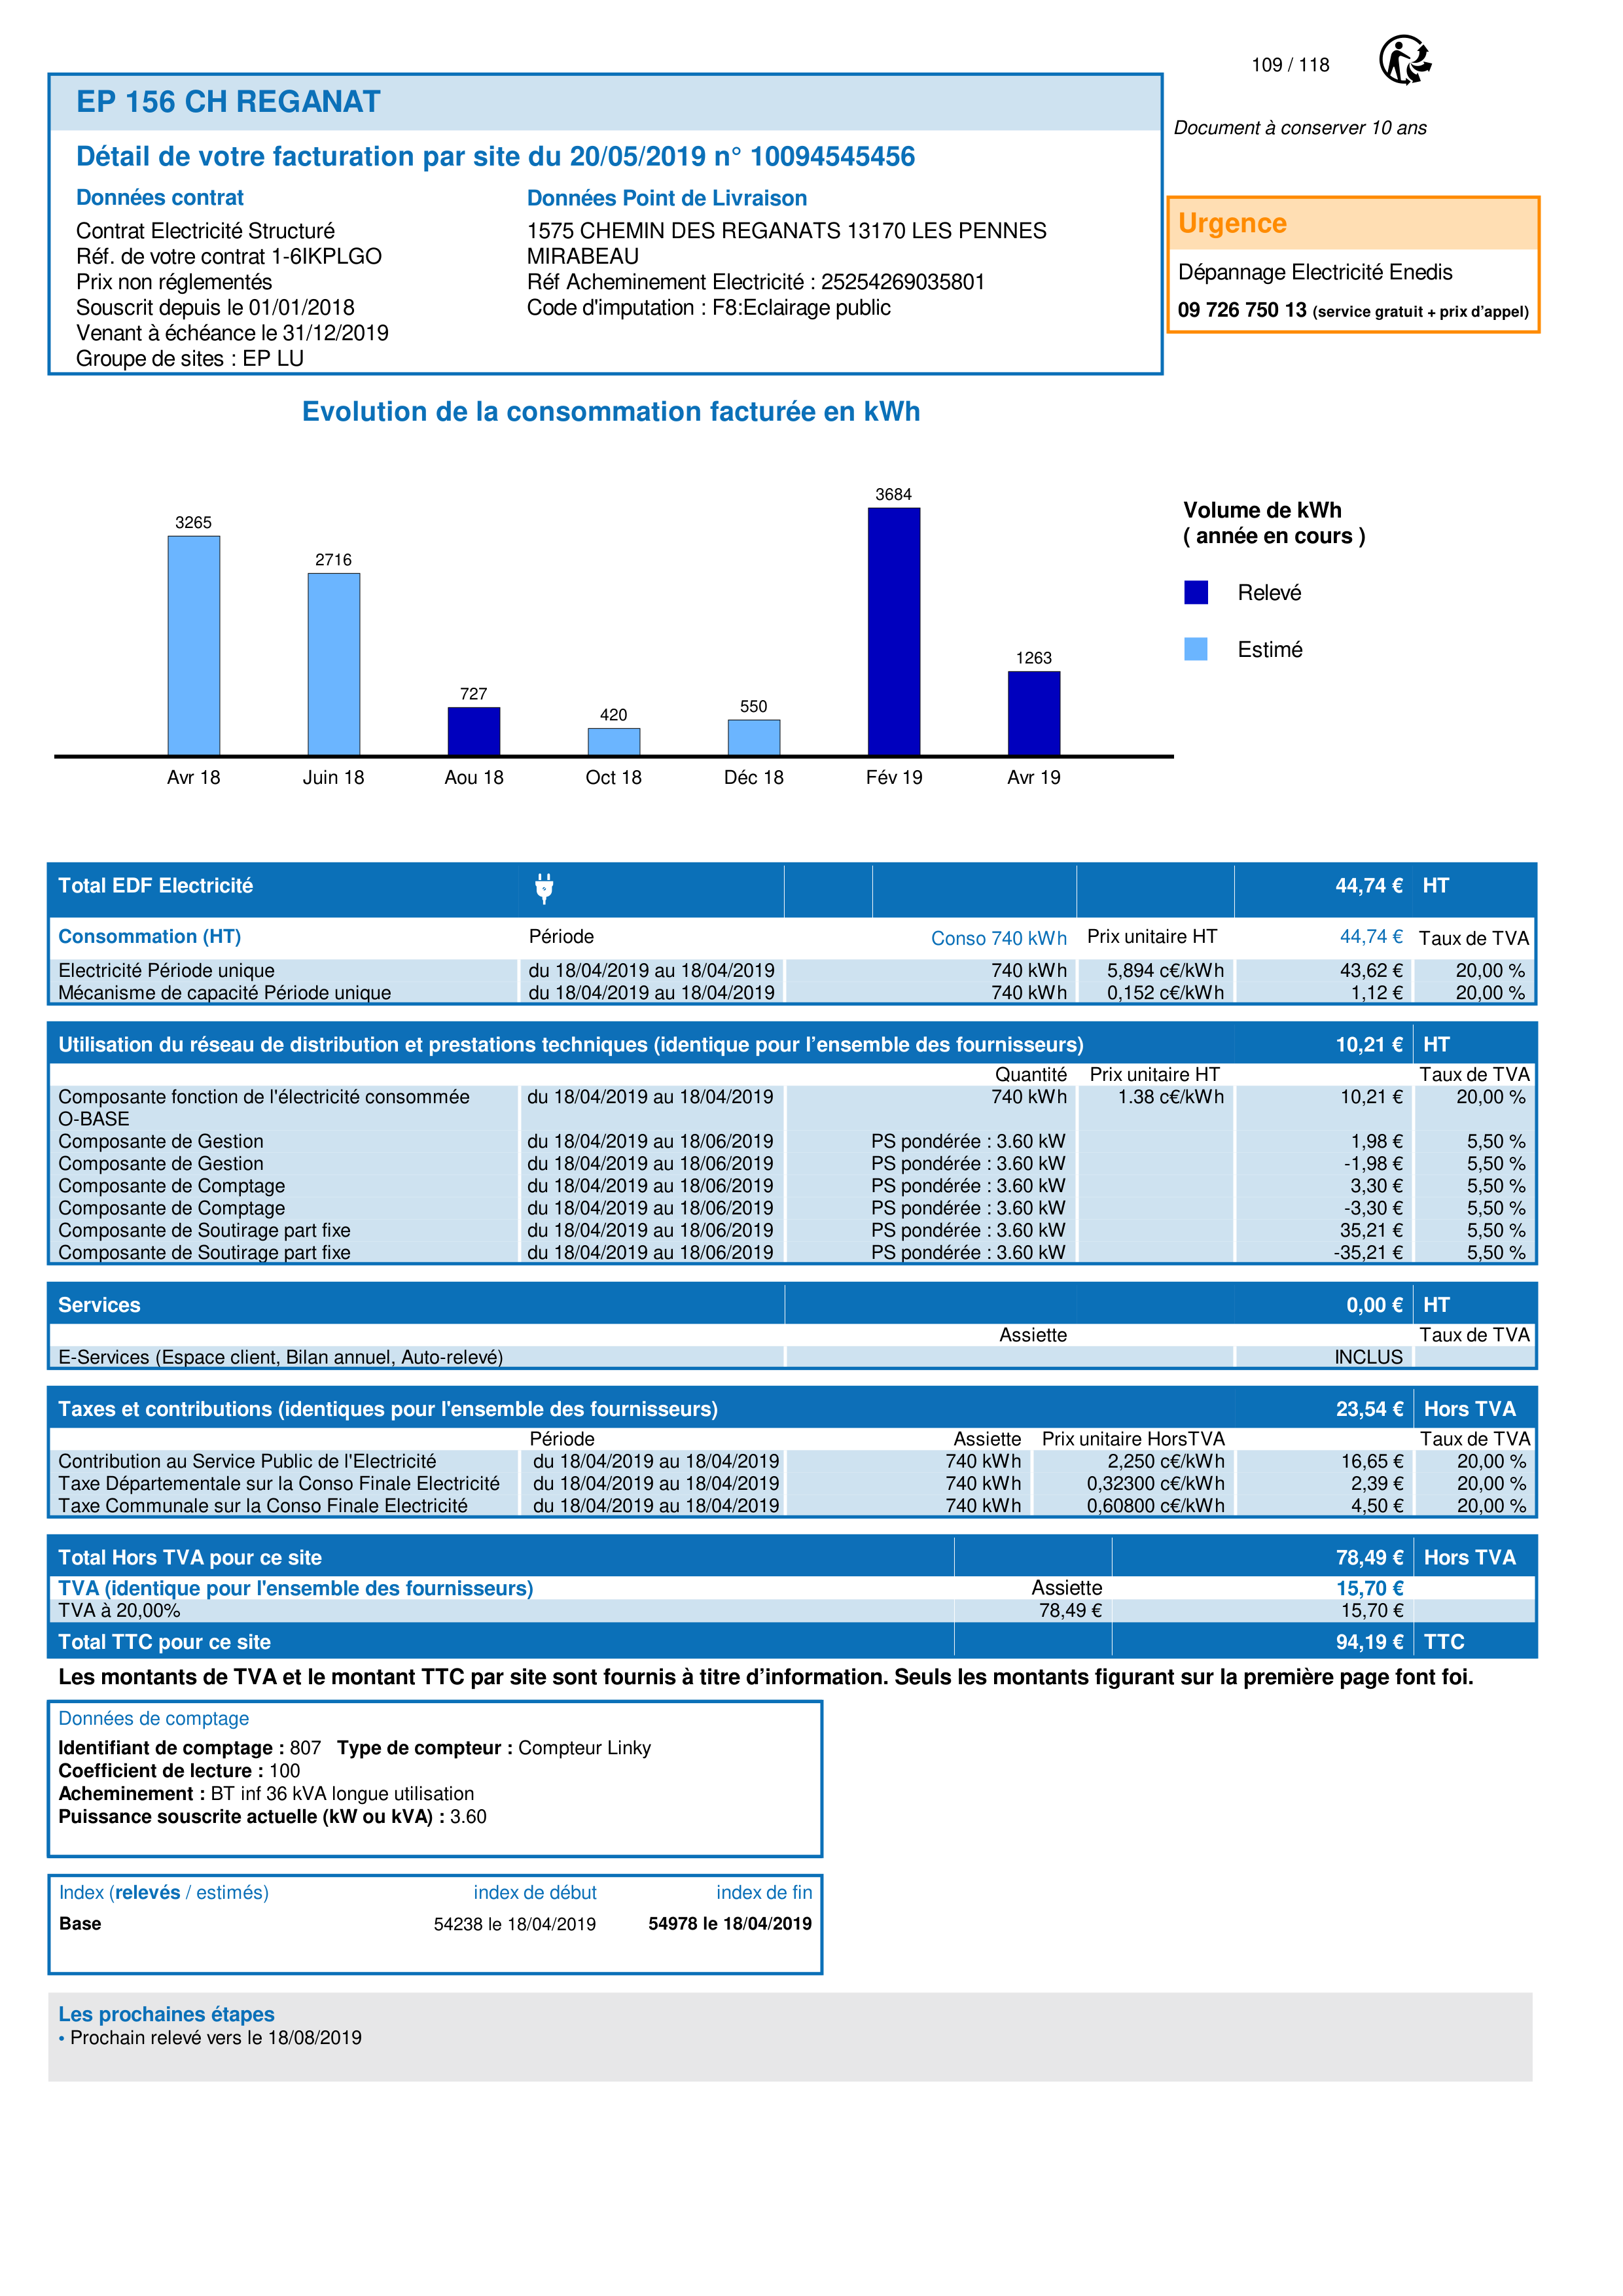area: (47, 1875, 824, 1977)
type_indicator: (49, 1876, 283, 1908)
